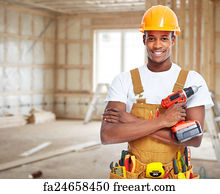hard hat: (139, 6, 181, 33)
